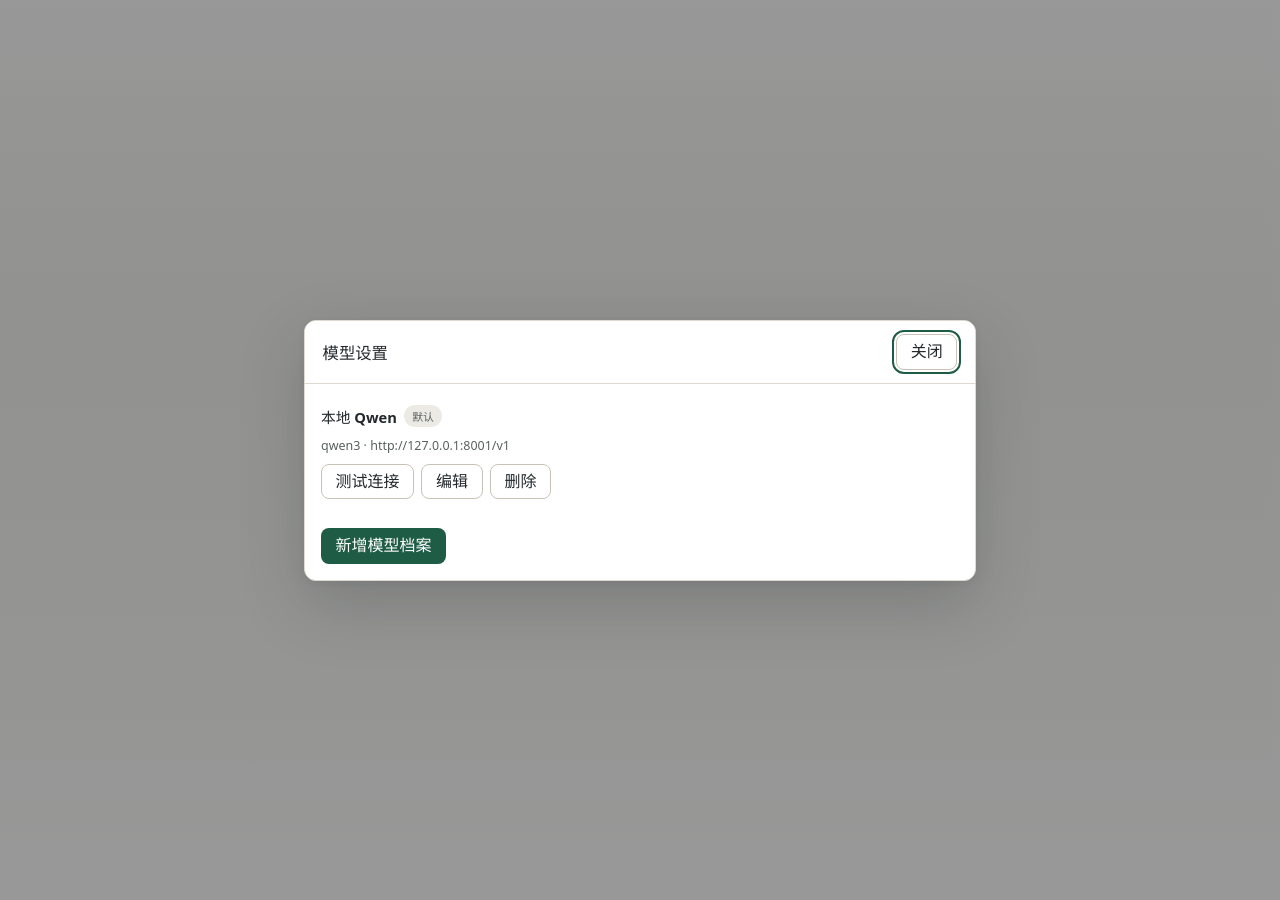
Test case: shows the HTTP response after a connection test
Click the button "测试连接". click: (368,481)
box: top-left (321, 464), bottom-right (414, 499)
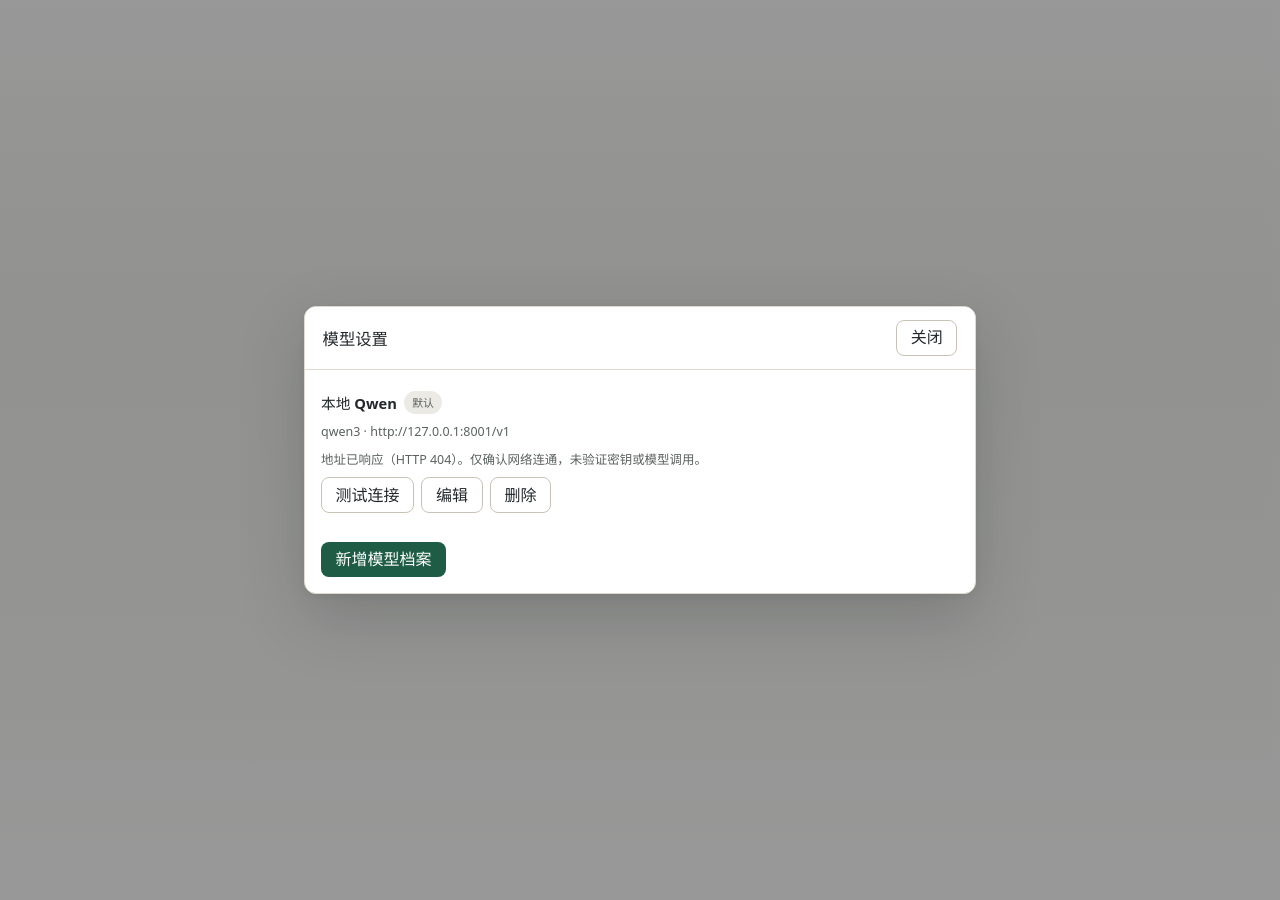
Result: the message shows "地址已响应（HTTP 404）" at top-left (321, 451), bottom-right (707, 468)
Result: the message shows "未验证密钥或模型调用" at top-left (451, 451), bottom-right (707, 468)
